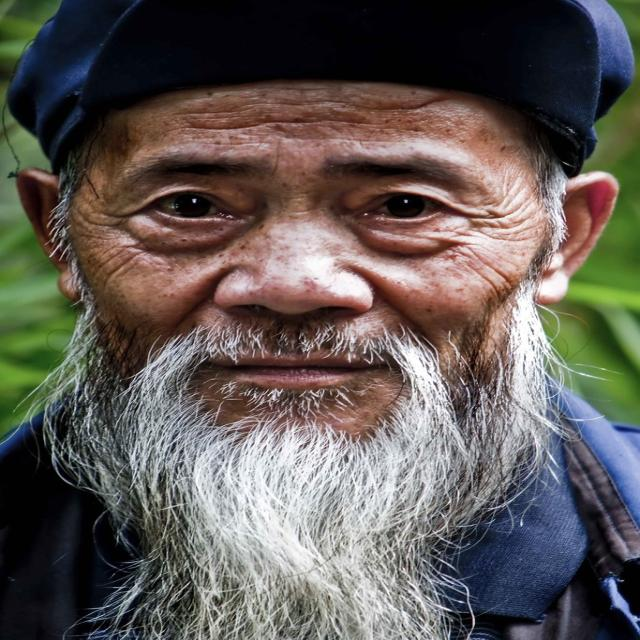front: (68, 136, 536, 441)
